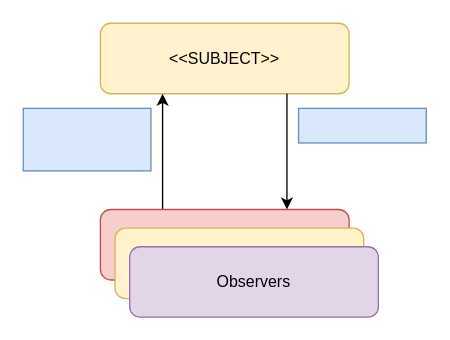
This 450x340 diagram has some shape labels left out. Here are the shapes that lost their labels. From the top down, the centre of each, then its label:
At point (86, 139): "Subscribe(); Unsubscribe();".
At point (361, 125): "Notify();".
